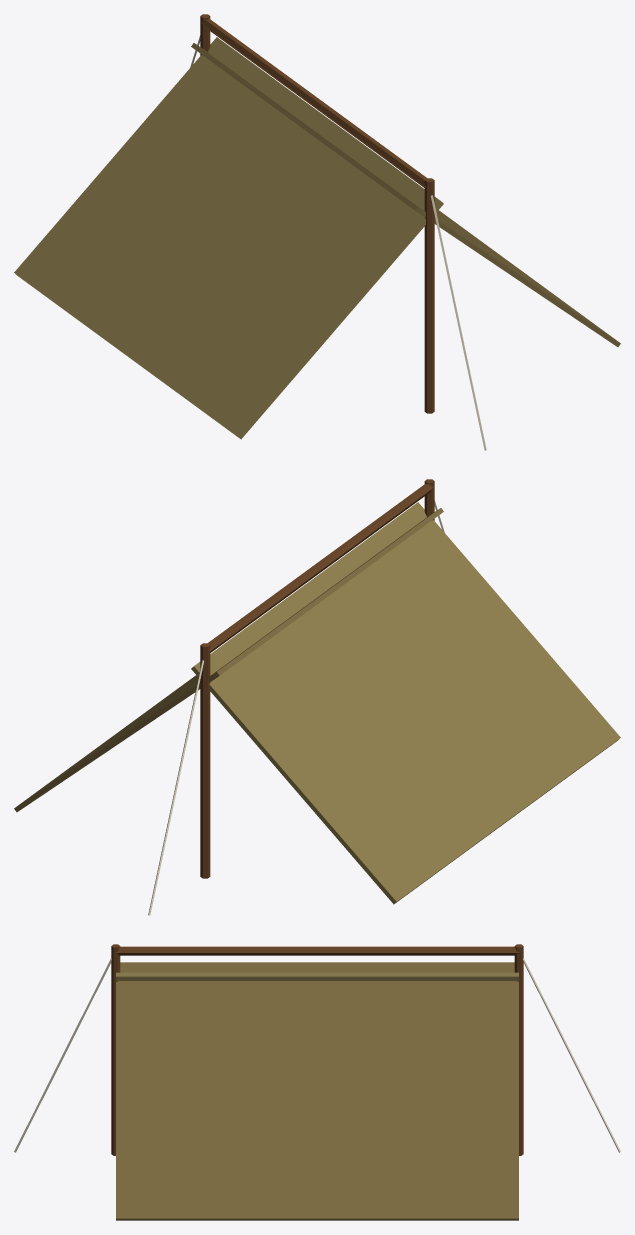
File: tent.glb
3 views of the same model, one above another, from view 1: azimuth 30°, elevation 25°; view 2: azimuth 150°, elevation 25°; view 3: azimuth 270°, elevation 25° (orthographic). The views are drawn at different scales.
Visible parts, largest first — view 1: tent; view 2: tent; view 3: tent.
Boxes of the visible parts, x1,y1,x2,y2 form: tent: [14, 14, 620, 450]; tent: [14, 479, 620, 915]; tent: [14, 944, 620, 1220].
Bounding box in the file's own units: 3.55 × 2.05 × 5.42.
